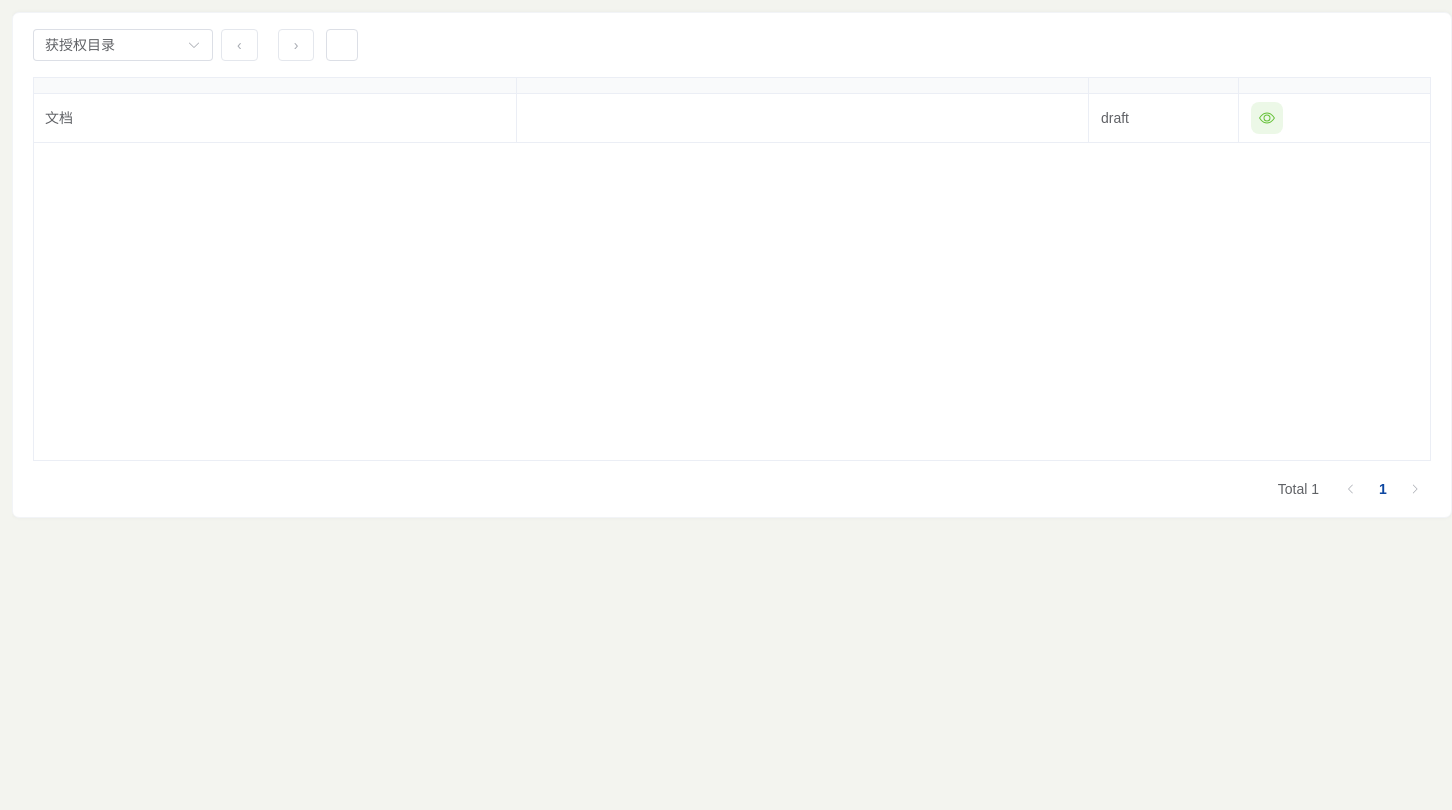
it: 知识目录与文件交付 › 版本索引读取权提供索引入口，不隐式提供原文读取
The width and height of the screenshot is (1452, 810).
What coordinates should you click on to do the following:
click the button with test id "knowledge-versions"
I would click on:
 (1267, 118)
Its box is [1251,102,1283,134].
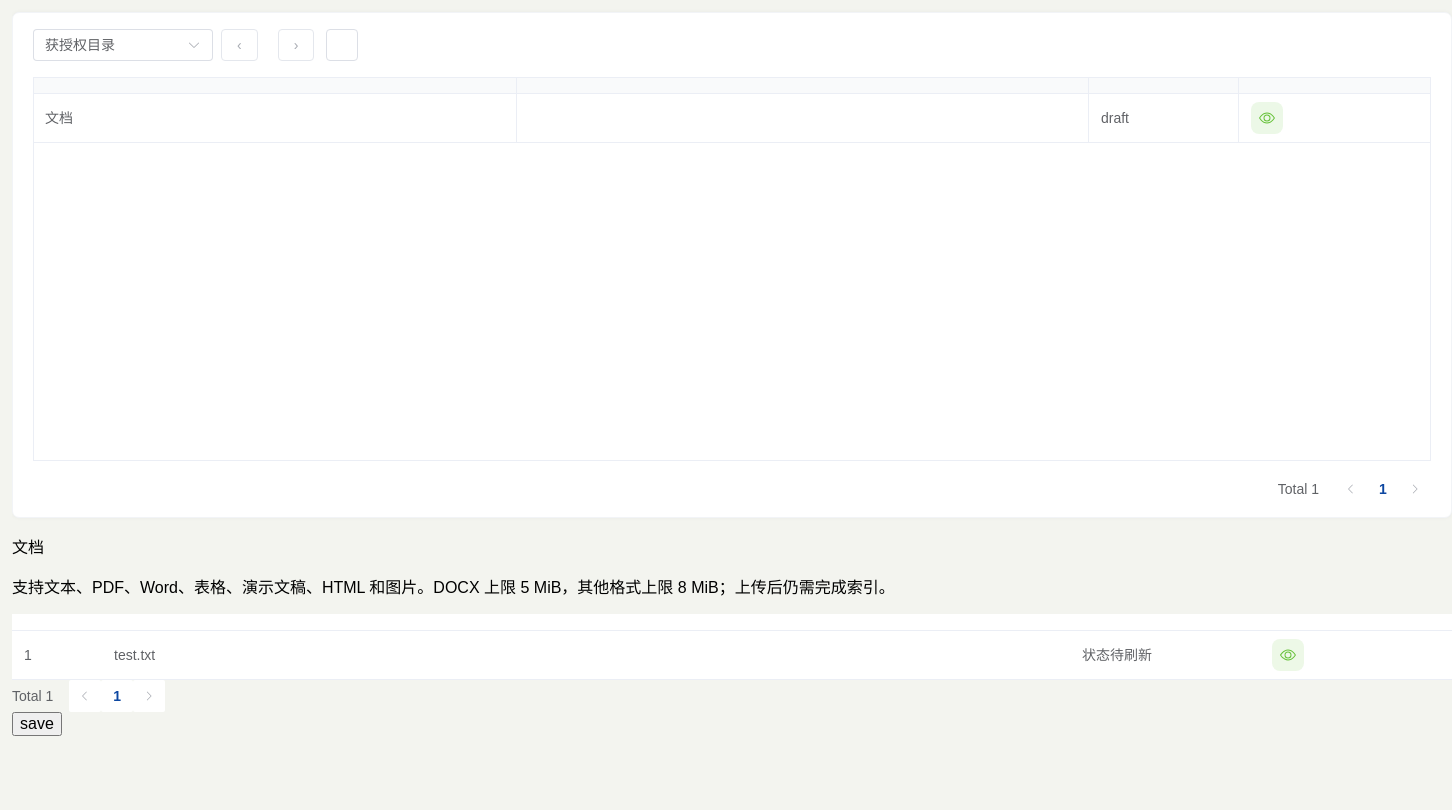
expect the button with test id "knowledge-index" is shown: met, box [1272,639,1304,671]
